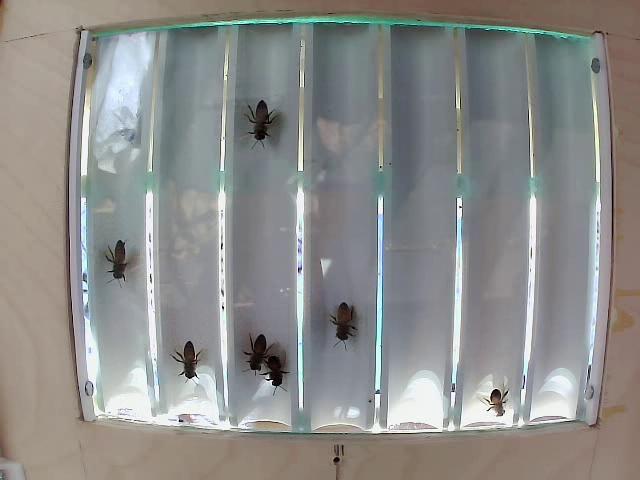bee: (320, 289, 365, 347), (96, 238, 142, 276), (268, 346, 292, 404), (169, 342, 203, 380), (230, 337, 268, 368), (255, 85, 281, 129)
